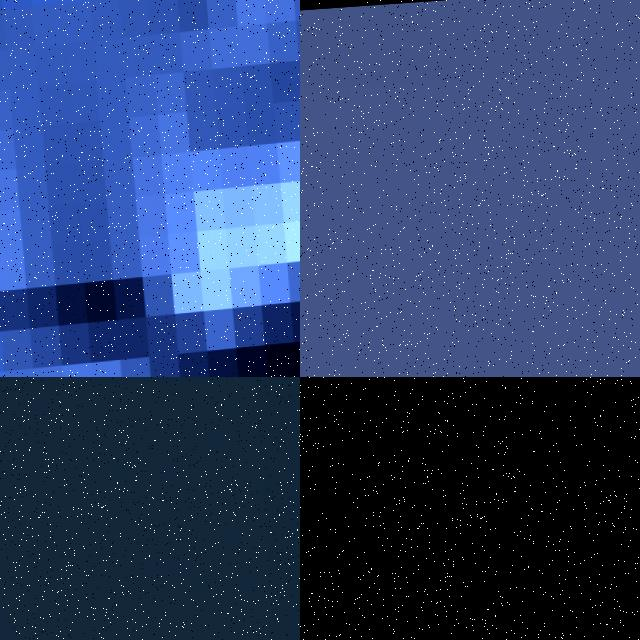drone: (0, 0, 300, 377), (300, 377, 640, 640)
